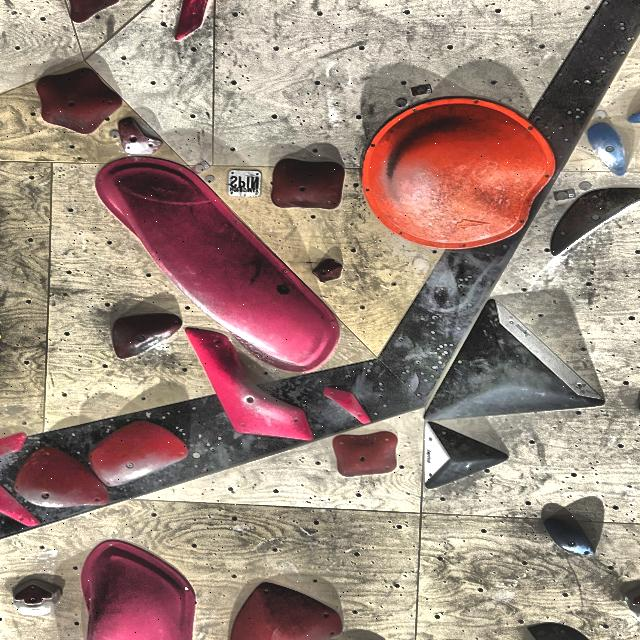Downclimb: (13, 575, 63, 616), (625, 587, 640, 621)
Hold: (362, 98, 555, 248), (185, 328, 312, 441), (90, 421, 188, 488), (230, 583, 342, 640), (550, 187, 640, 255), (15, 447, 109, 508), (37, 68, 122, 134), (271, 159, 345, 210), (332, 431, 398, 477), (112, 314, 181, 358), (587, 122, 627, 176), (545, 519, 595, 556), (323, 387, 371, 425), (118, 117, 163, 156), (0, 484, 40, 527), (175, 0, 209, 40), (69, 0, 119, 23), (528, 623, 590, 640), (313, 258, 343, 283), (0, 433, 26, 457), (628, 110, 640, 124)
Macro: (96, 157, 338, 372), (82, 541, 195, 640)
Volume: (426, 301, 603, 419), (425, 422, 508, 488)
start_tag: (395, 99, 406, 107), (557, 192, 568, 200), (416, 86, 426, 94), (580, 182, 590, 190), (594, 111, 604, 118), (205, 175, 215, 182), (196, 165, 204, 172), (111, 131, 119, 137)
